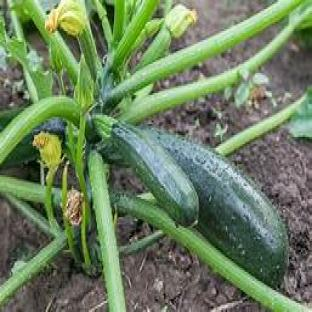Zucchini: (143, 128, 287, 286), (95, 115, 199, 226), (0, 119, 65, 167)
